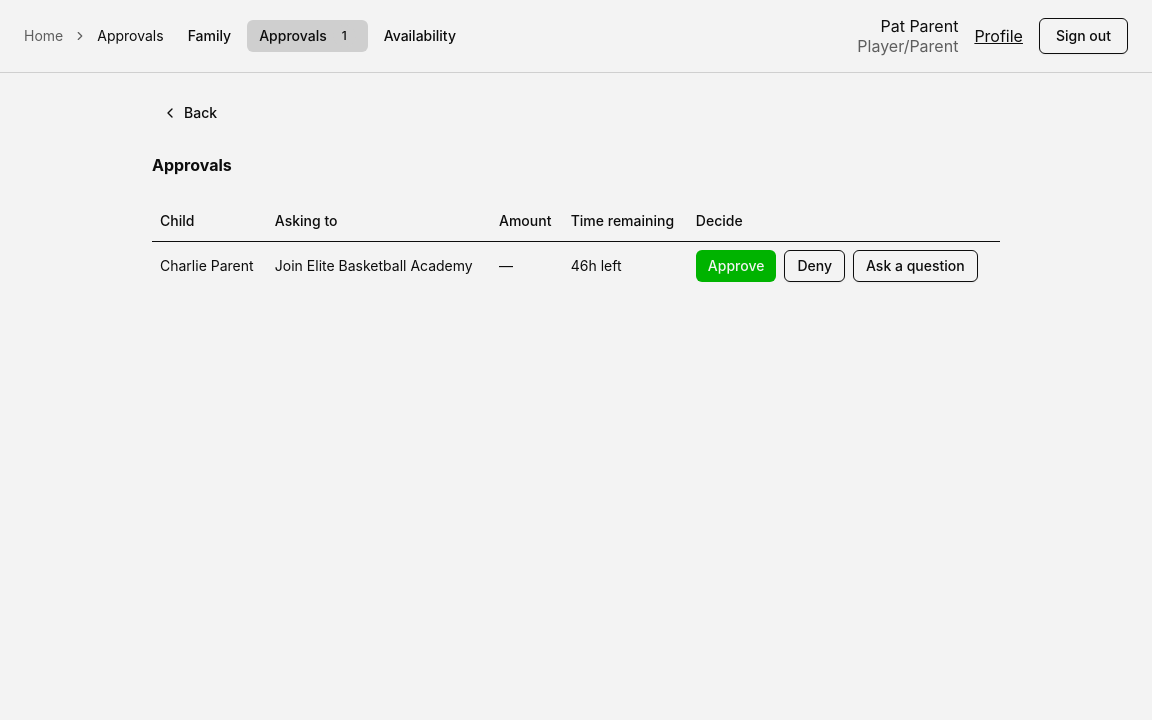
Test case: ApprovalsPage — the parent decision queue › approving posts to the approve endpoint and shows a success toast
Step 1. Click the button "Approve" → click(736, 266), box top-left (696, 250), bottom-right (776, 282)
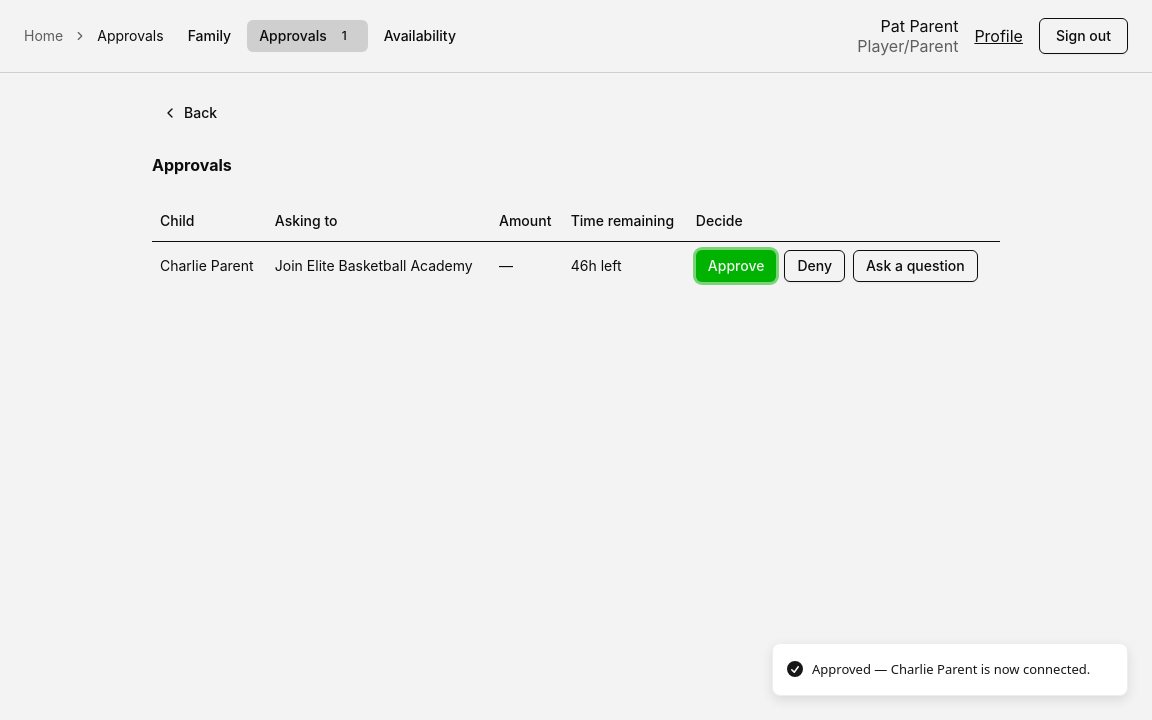
Expected: the text "Approved — Charlie Parent is now connected." is shown, top-left (812, 660), bottom-right (1090, 679)
